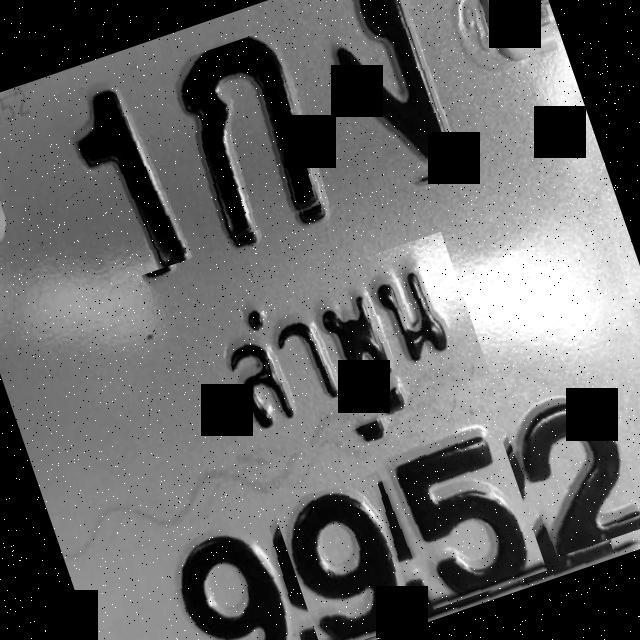letters: (165, 26, 338, 242), (368, 405, 547, 612), (42, 66, 204, 287), (304, 0, 476, 199), (496, 374, 640, 560), (271, 469, 424, 640), (129, 507, 315, 640)
license-plate: (0, 0, 640, 640)
province: (182, 231, 494, 476)
